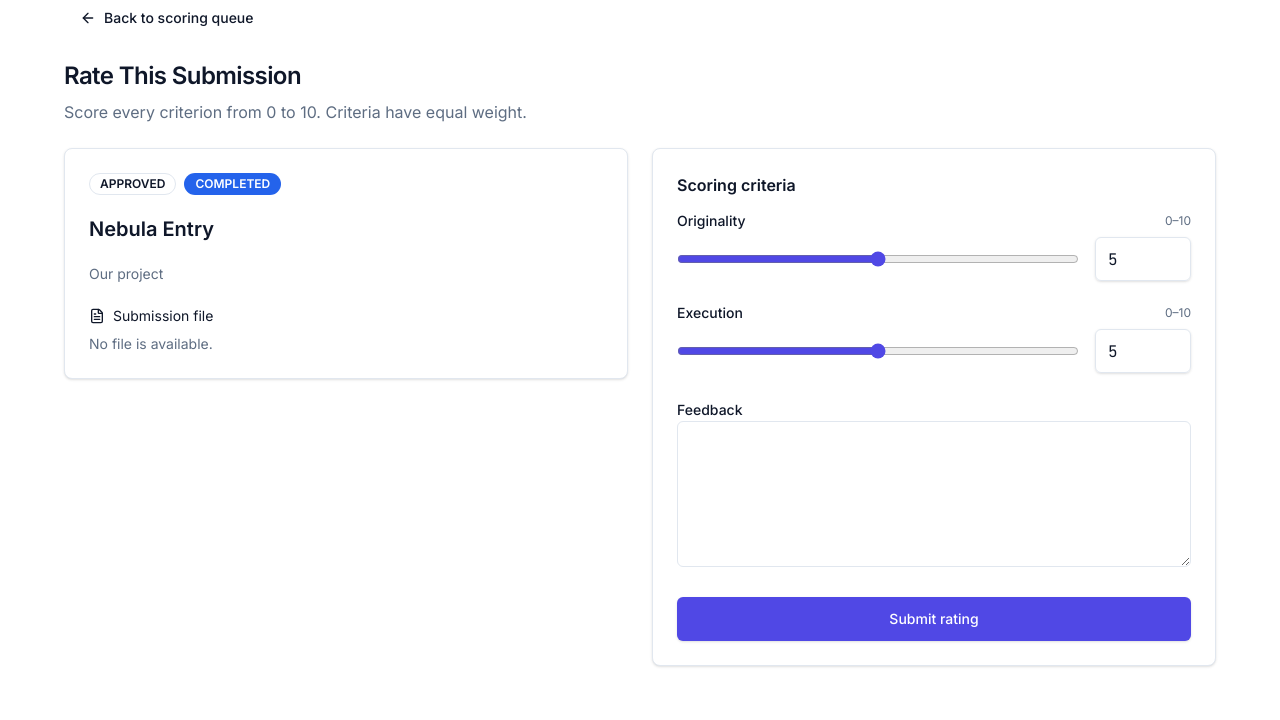
Test: preserves edits on failure, disables repeated submission, and allows retry
Expected: the number field labelled "Originality" is shown, [1095,237,1191,281]
Type "Keep my notes" into the text box labelled "Feedback" at (934, 494), box [677,421,1191,567]
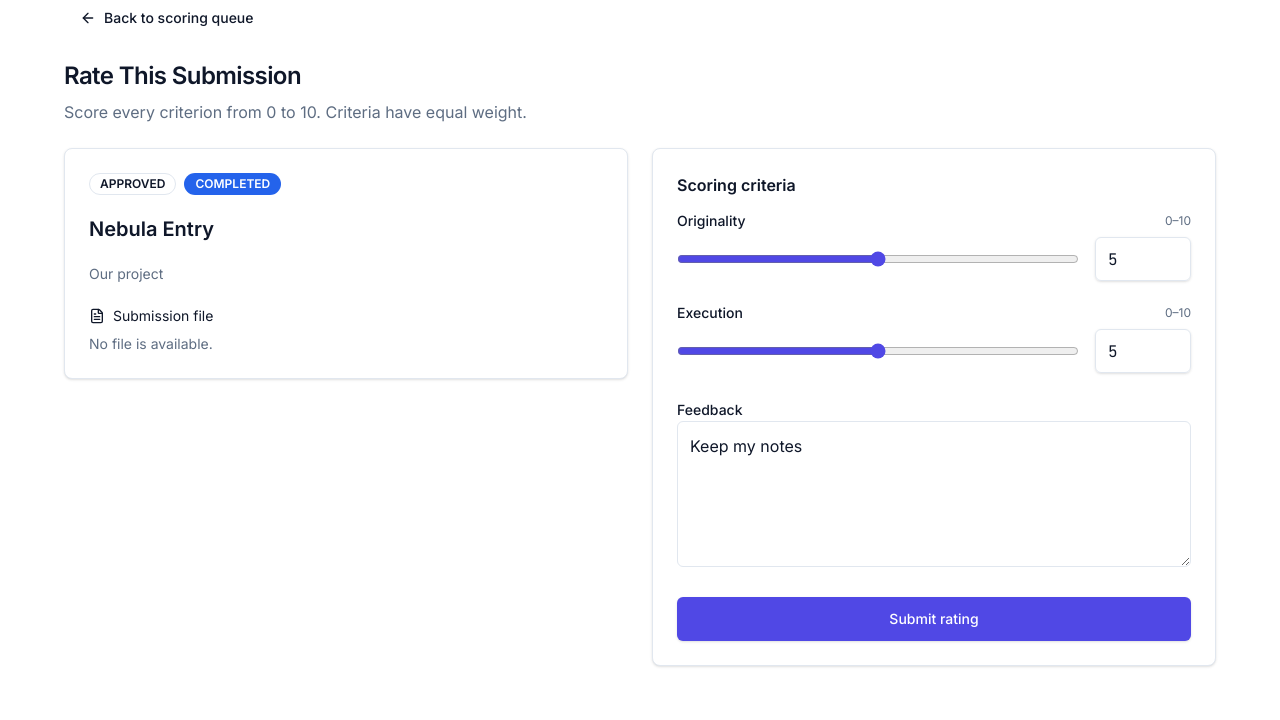
Replace the text in the number field labelled "Originality" with "9" at (1143, 259), box [1095,237,1191,281]
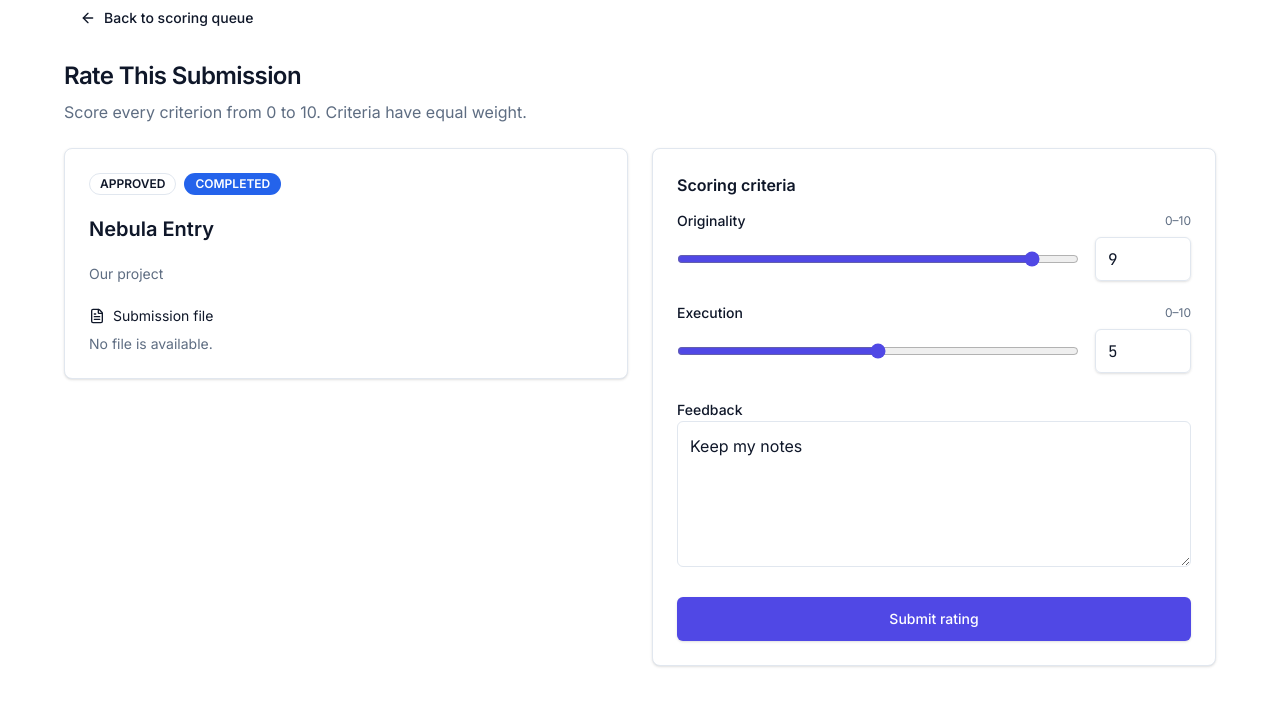
Click the button "Submit rating" at (934, 619), box [677,597,1191,641]
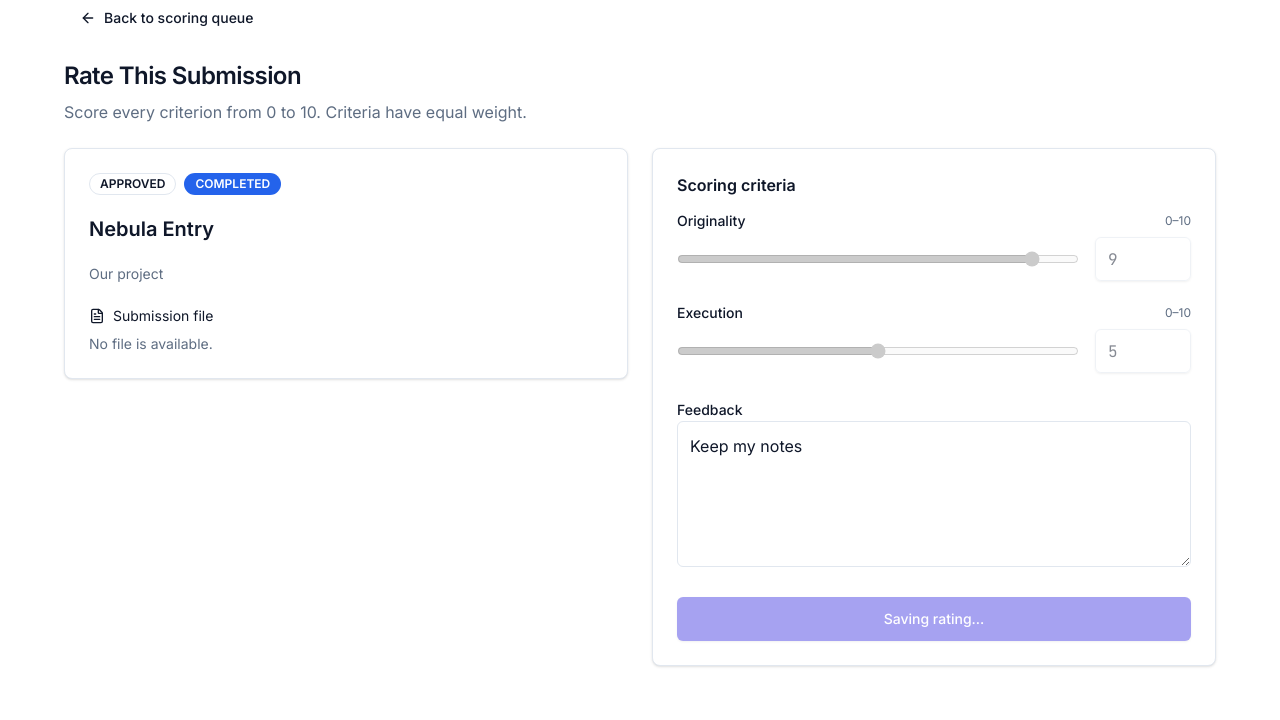
Expected: the button "Saving rating…" is disabled
Click the button "Saving rating…" at (934, 619), box [677,597,1191,641]
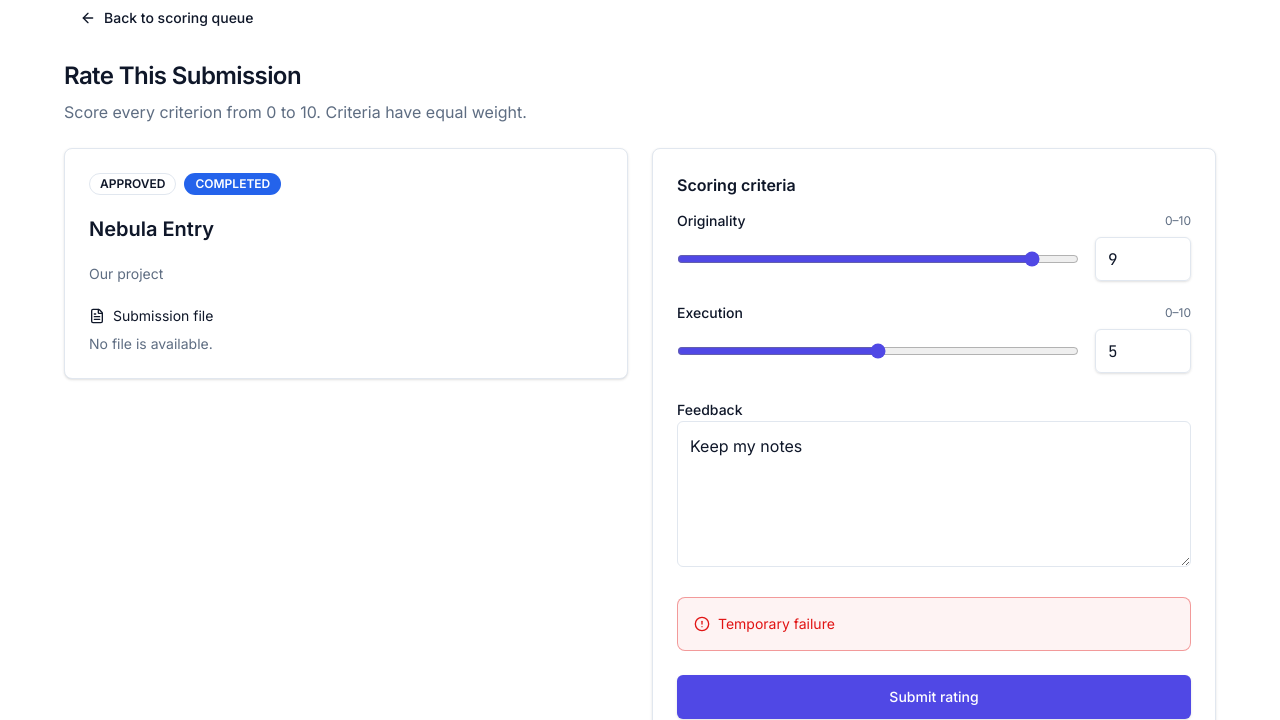
Expected: the message reads "Temporary failure", [718,615,835,632]
Click the button "Submit rating" at (934, 697), box [677,675,1191,719]
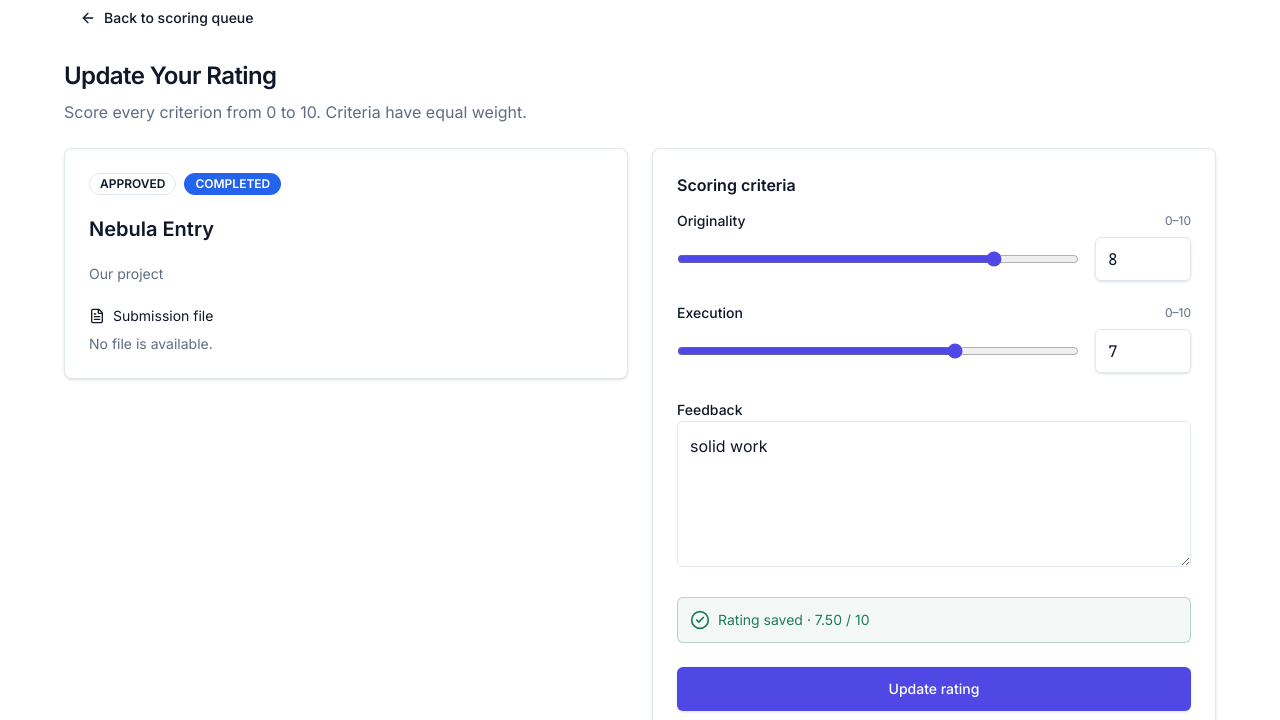
Expected: the text "Rating saved · 7.50 / 10" is shown, [677,597,1191,643]
